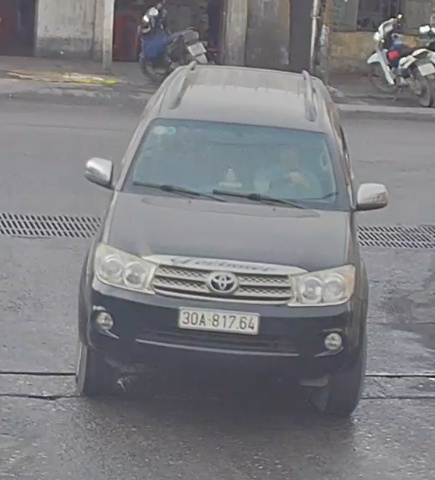vehicle plate: (172, 298, 266, 345)
